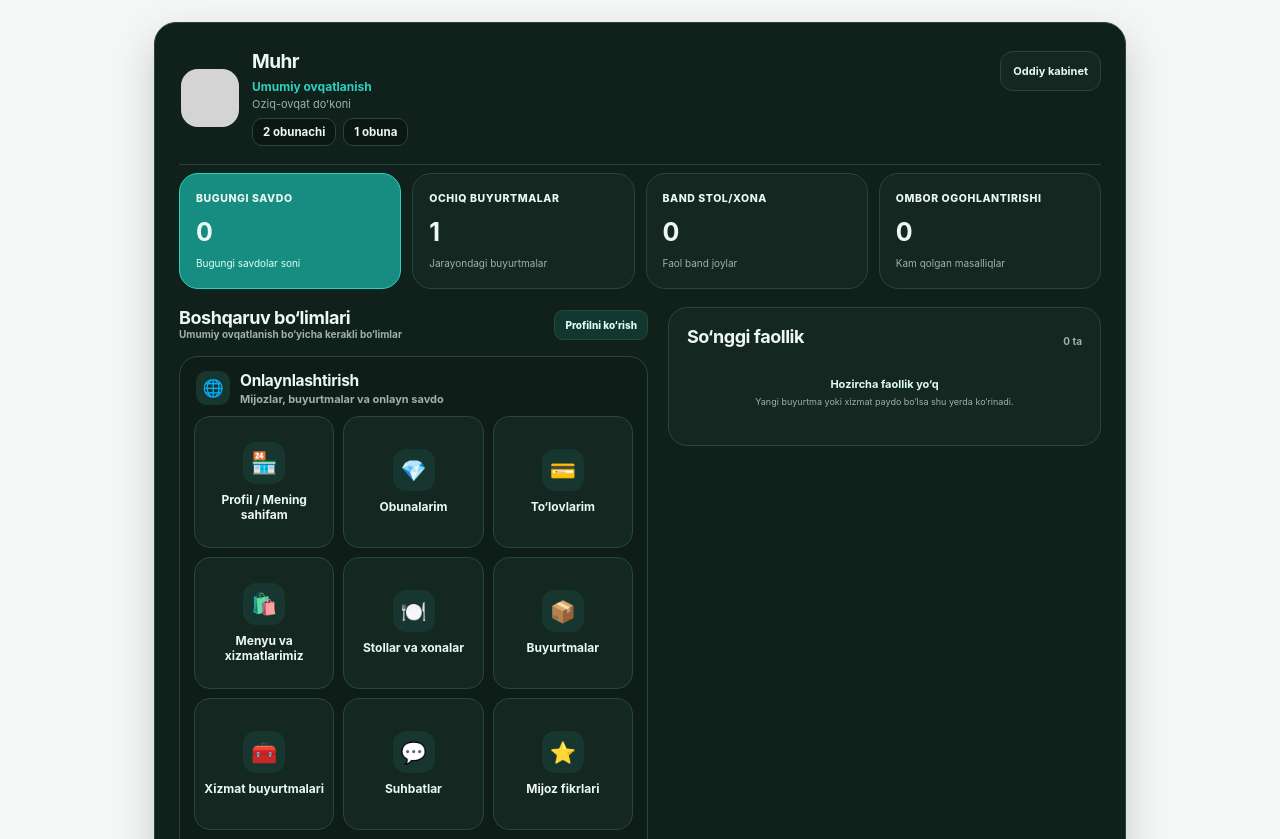
Test: v1656 business cabinet dashboard parity › keeps the dining kitchen reachable without a separate main-grid card
The width and height of the screenshot is (1280, 839).
Check: the button "Oshpaz buyurtmalari" is not shown
Click the button "🍽️ Stollar va xonalar" at (413, 623), box [343,557,484,689]
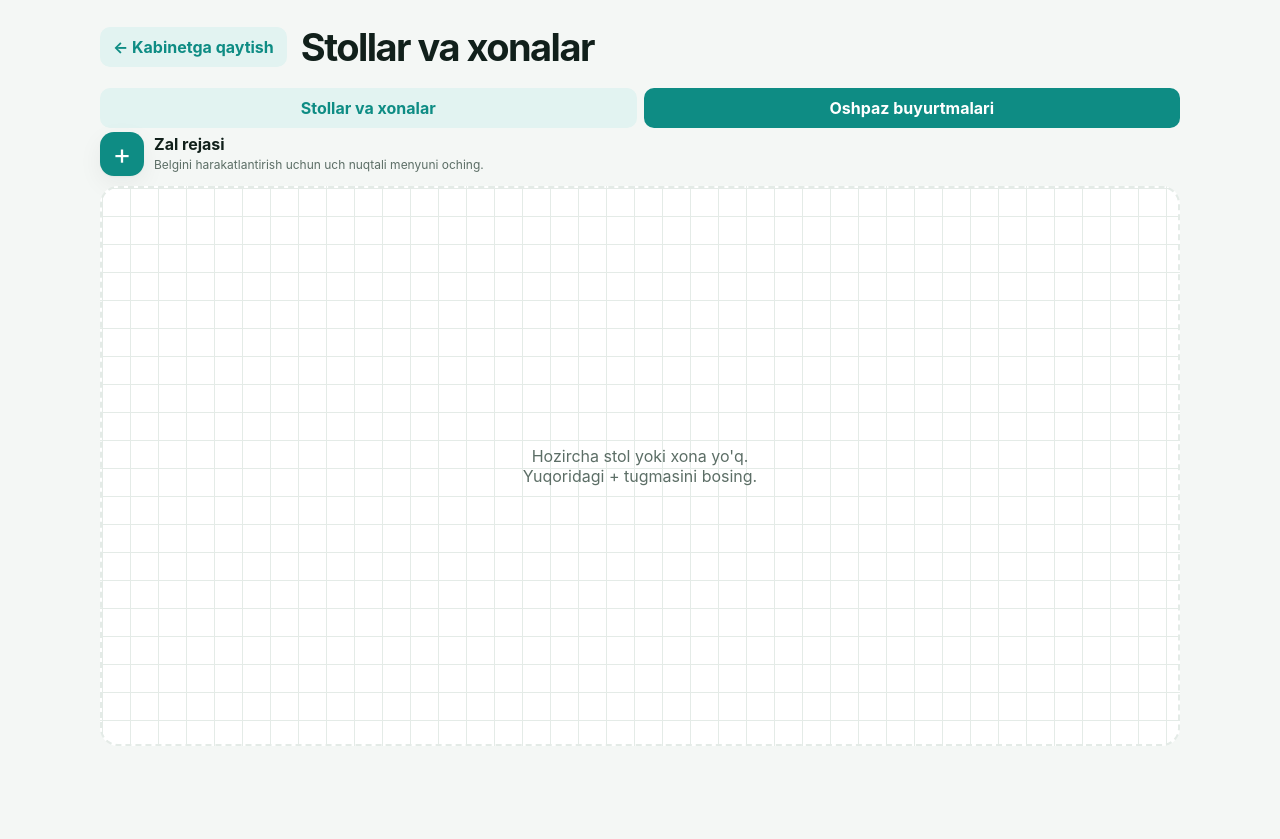
Click the button "Oshpaz buyurtmalari" at (912, 108), box [644,88,1180,128]
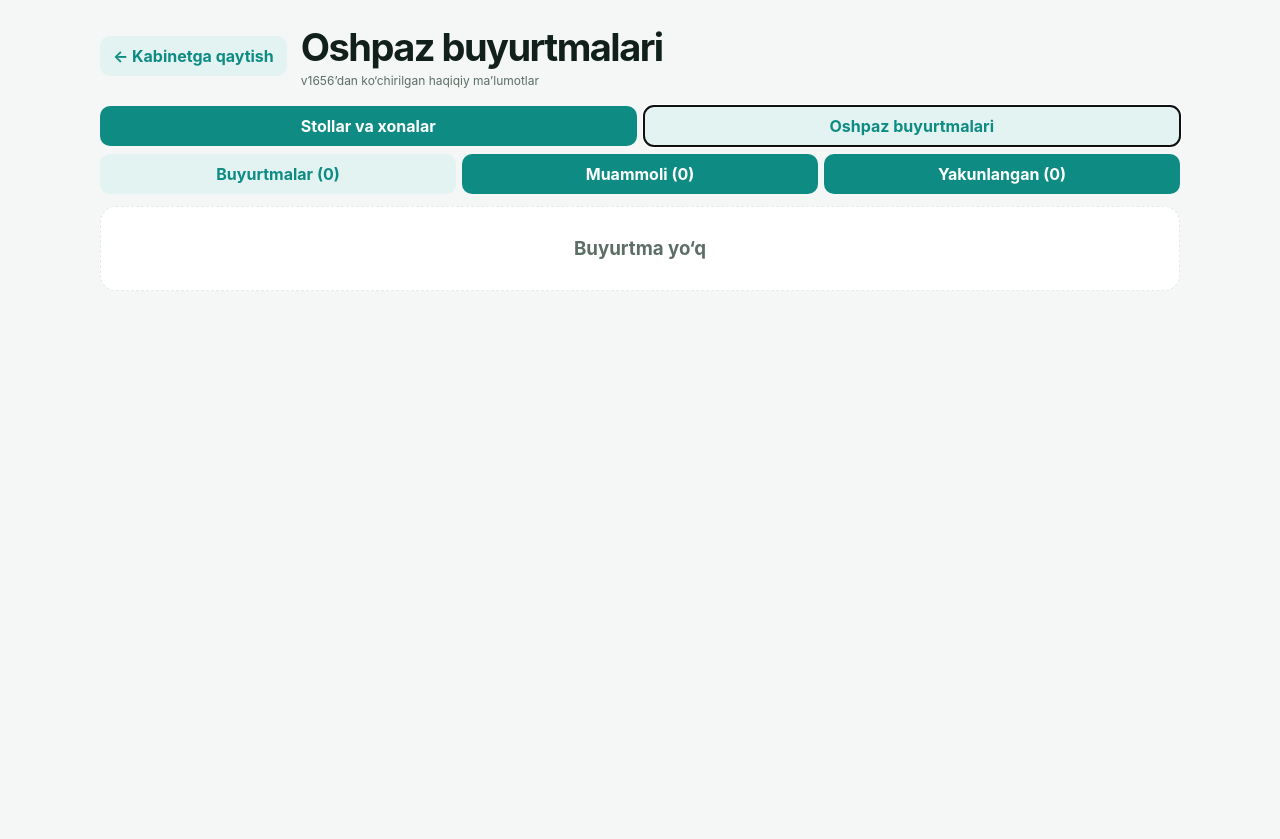
Check: the heading "Buyurtma yo‘q" is shown, box [574,237,706,260]
